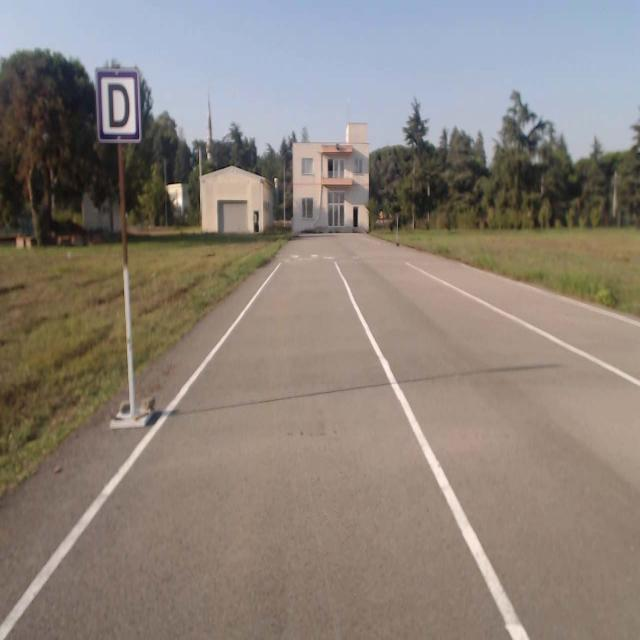durak: (96, 68, 140, 140)
